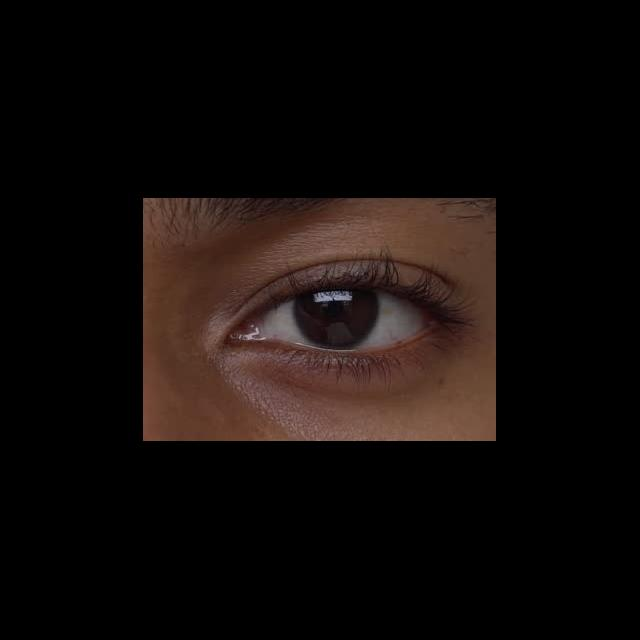eye: (256, 284, 433, 355)
iris: (295, 287, 380, 352)
